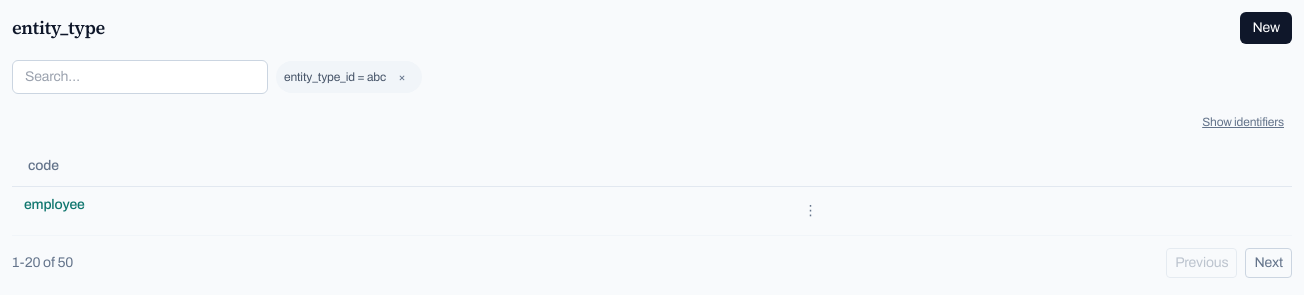
Scenario: EntityList › removes a filter chip when its × is clicked
Check: the table is shown, box top-left (12, 146), bottom-right (1292, 236)
Click the button named "Remove filter entity_type_id" at point(402, 77), box top-left (390, 65), bottom-right (414, 89)
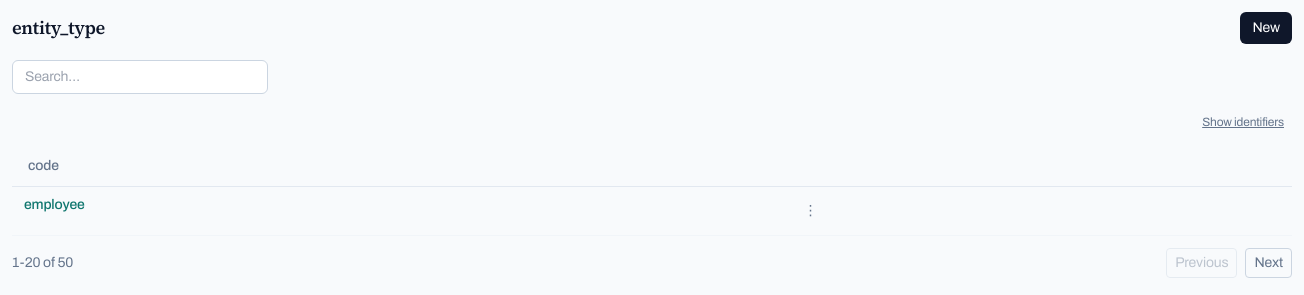
Check: the text "entity_type_id = abc" is gone
